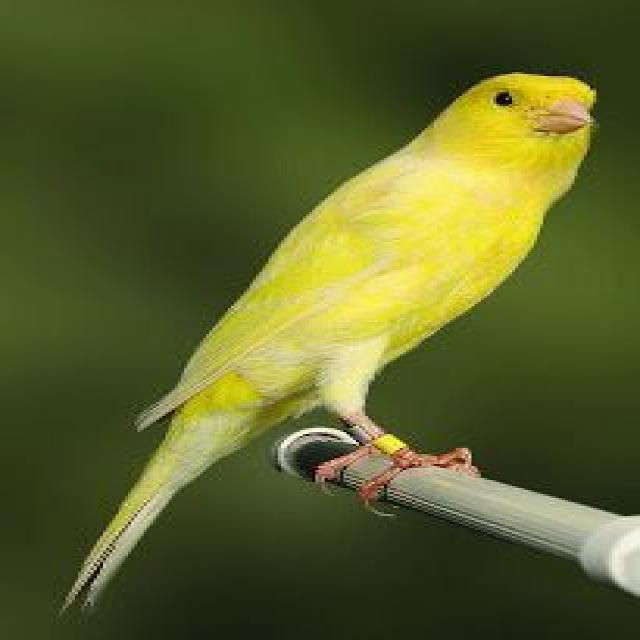Herbivorous: (59, 74, 596, 618)
